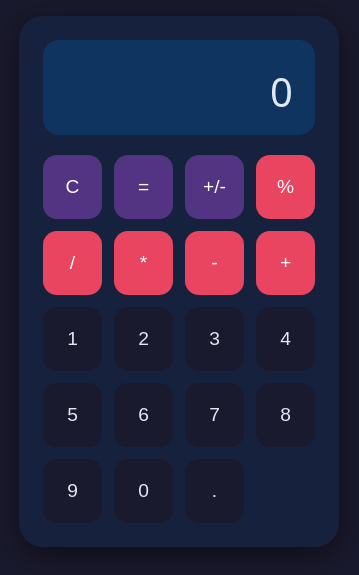
Test case: Calculator › computes addition with equals
Click the button "8" at (286, 414), box [256,382,315,446]
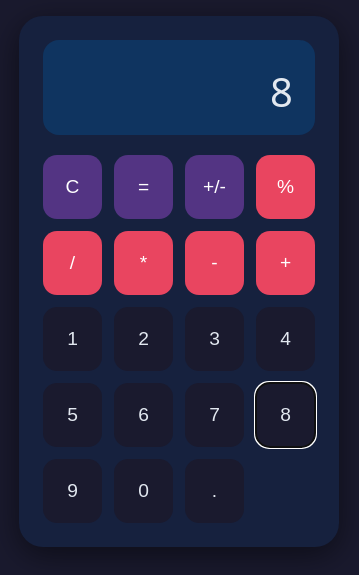
Click the button "+" at (286, 262), box [256,230,315,294]
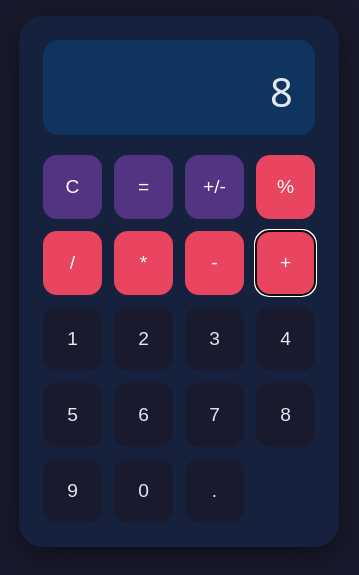
Click the button "3" at (214, 338), box [185,306,244,370]
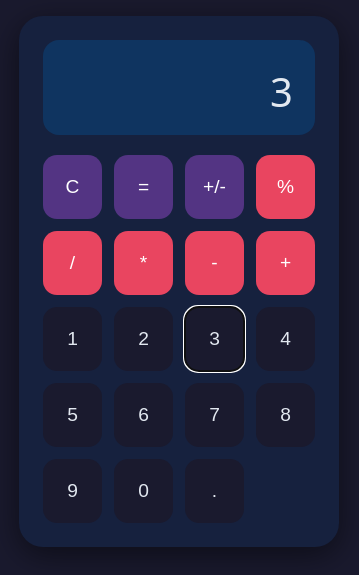
Click the button "=" at (144, 186), box [114,154,173,218]
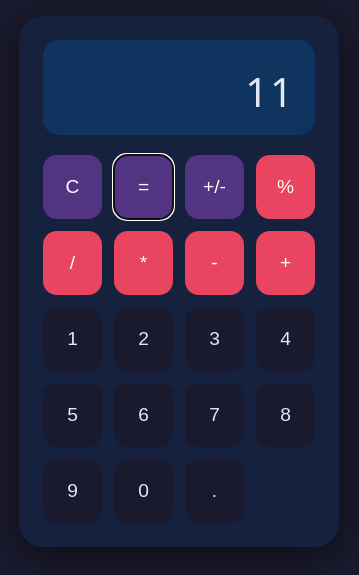
Check: the text named "calculator display" reads "11", box [245,64,295,118]
